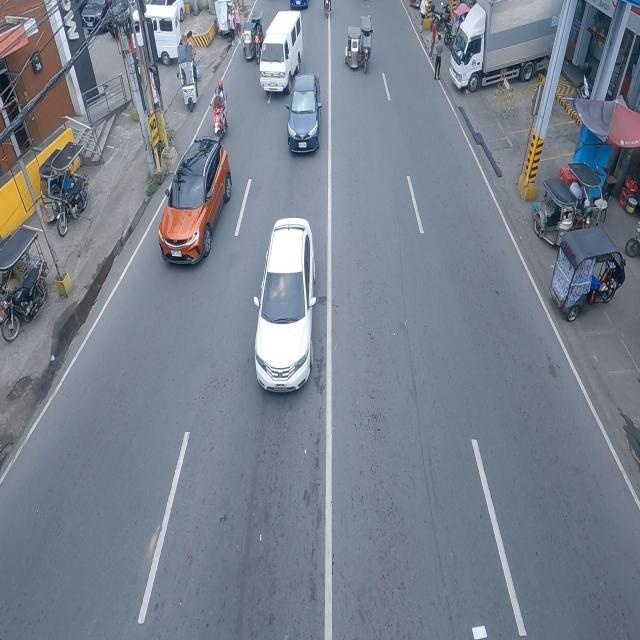Motorcycle: (212, 81, 232, 138)
Van: (258, 11, 305, 100)
